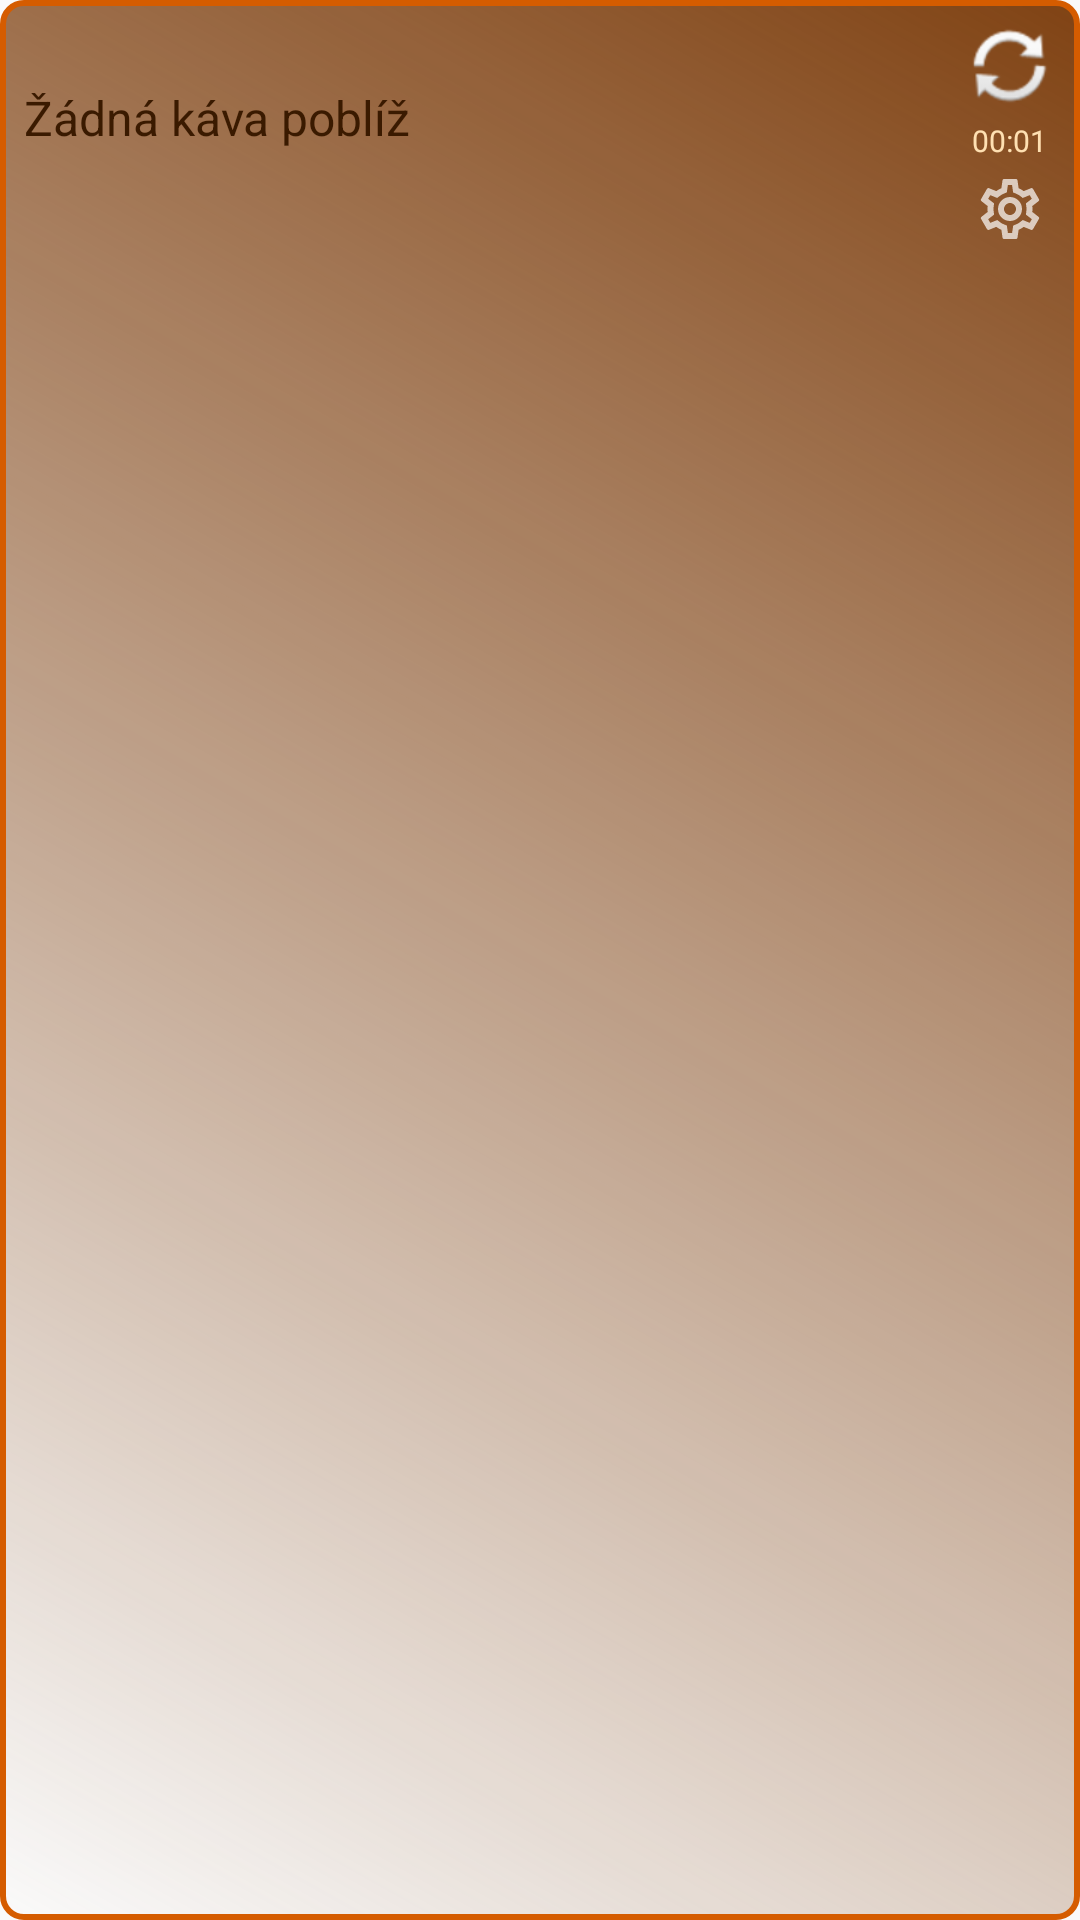

Locate icon controls on the screen. Image size 1080px×1920px, boxes as (x1, y1, x2, y2).
popup sync: (973, 30, 1046, 102)
settings: (981, 179, 1039, 239)
